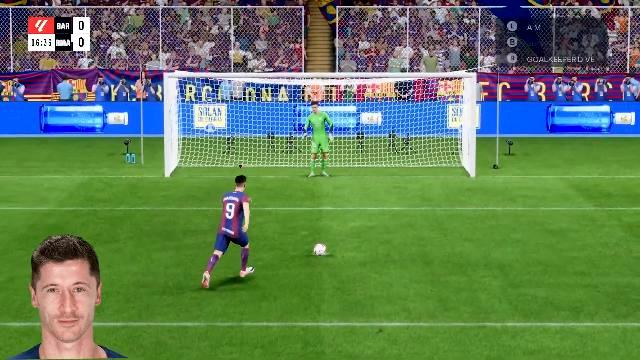bottom-left: (177, 136, 275, 178)
bottom-right: (364, 136, 466, 178)
center-down: (278, 136, 360, 178)
center-up: (278, 82, 358, 132)
football: (312, 242, 328, 252)
goalkeeper: (296, 105, 354, 178)
player: (198, 180, 260, 290)
top-left: (172, 82, 274, 130)
top-right: (364, 81, 466, 130)
